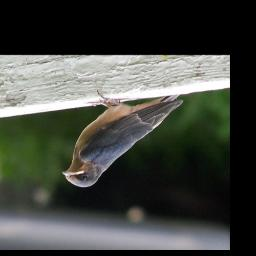Swallow: (61, 89, 184, 188)
